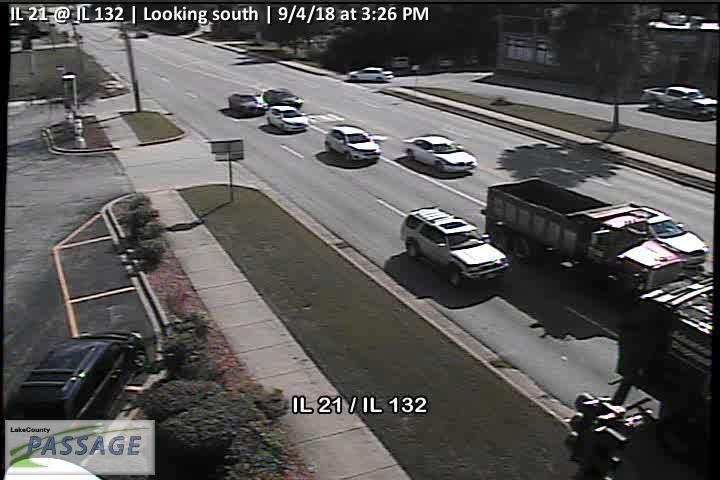SUV: (400, 204, 511, 285)
Sedan: (2, 331, 151, 456), (401, 134, 478, 174), (324, 124, 382, 163), (264, 103, 310, 132), (263, 88, 305, 109), (227, 93, 265, 116), (347, 65, 394, 82)
Truck: (477, 175, 711, 316), (641, 84, 720, 120)
